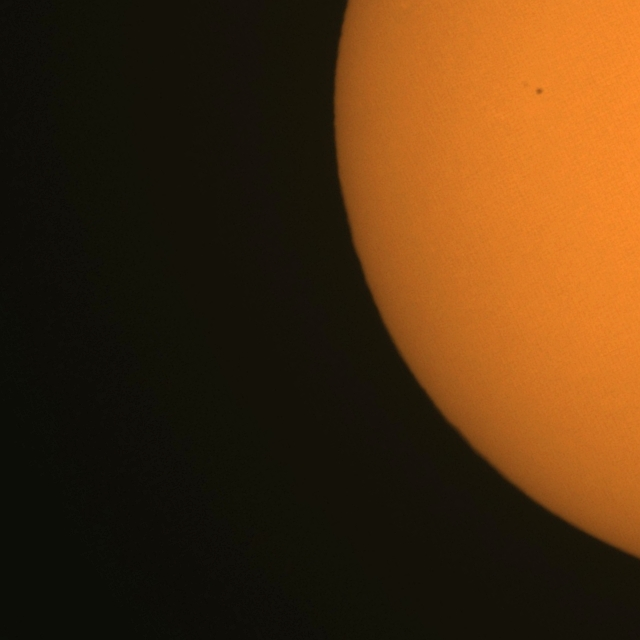sunspot: (534, 86, 544, 96)
